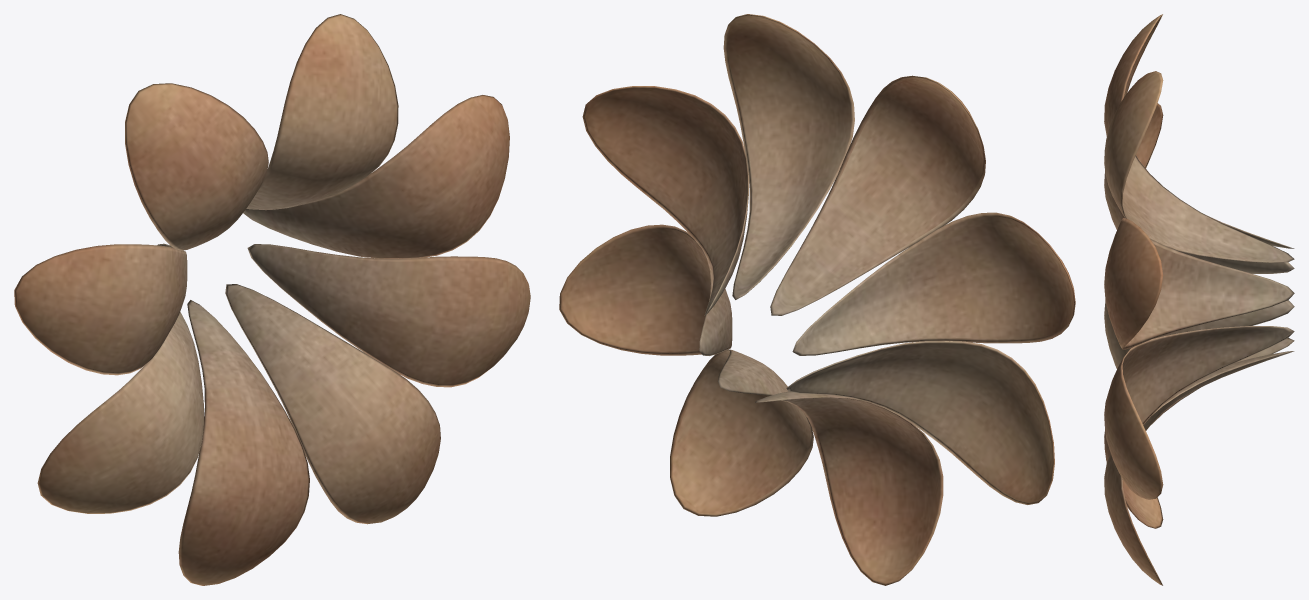
File: YellowAppleCaylx.obj
The picture shows the model from 3 angles, left to right: view 1: azimuth 30°, elevation 25°; view 2: azimuth 150°, elevation 25°; view 3: azimuth 270°, elevation 25°; orthographic projection. The views are drawn at different scales.
Visible parts, largest first — view 1: YellowAppleCaylx; view 2: YellowAppleCaylx; view 3: YellowAppleCaylx.
Part boxes in pixels (left/top/right/bottom): YellowAppleCaylx: left=14, top=14, right=530, bottom=585; YellowAppleCaylx: left=559, top=14, right=1075, bottom=585; YellowAppleCaylx: left=1104, top=14, right=1294, bottom=585.
Bounding box in the file's own units: 0.00517 × 0.00517 × 0.00177.
Materials: 1 (1 with a texture image).
